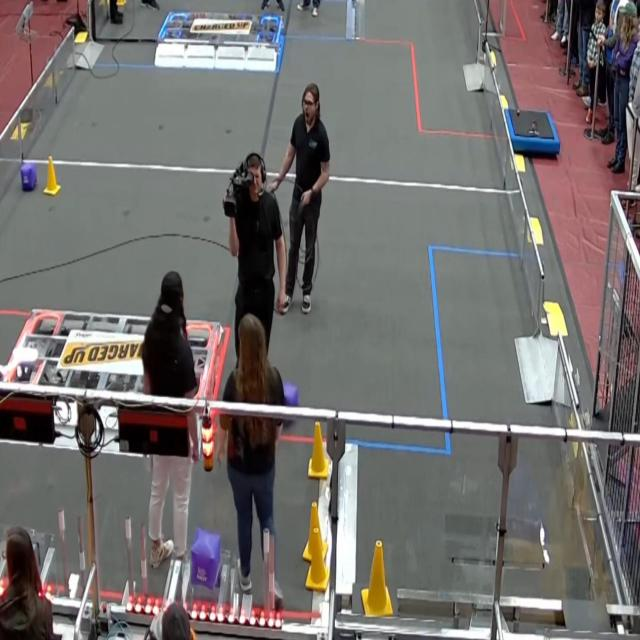frc_cone: (361, 540, 392, 620), (305, 526, 330, 592), (302, 501, 328, 564), (307, 422, 330, 479), (42, 157, 60, 195)
frc_cube: (190, 531, 220, 587), (282, 376, 302, 410), (21, 163, 37, 190)
